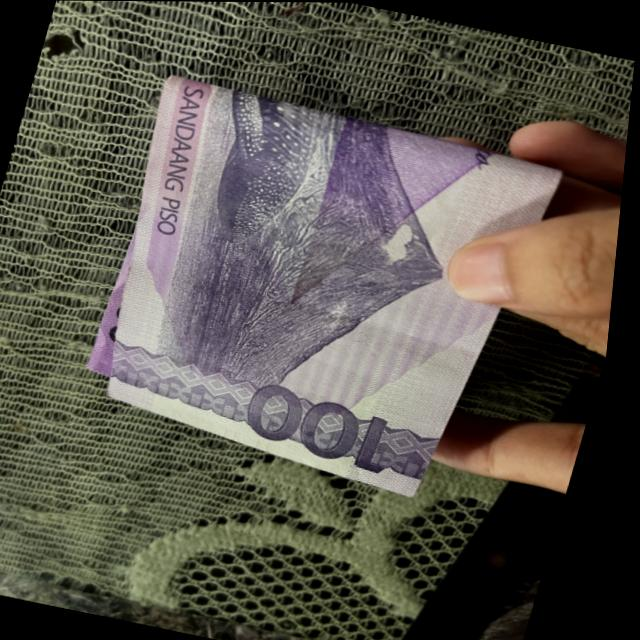value: (242, 378, 420, 478)
